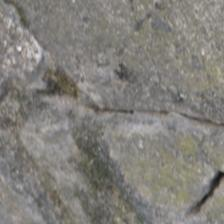Crack: (42, 32, 177, 69), (51, 0, 98, 87), (91, 78, 133, 146)
